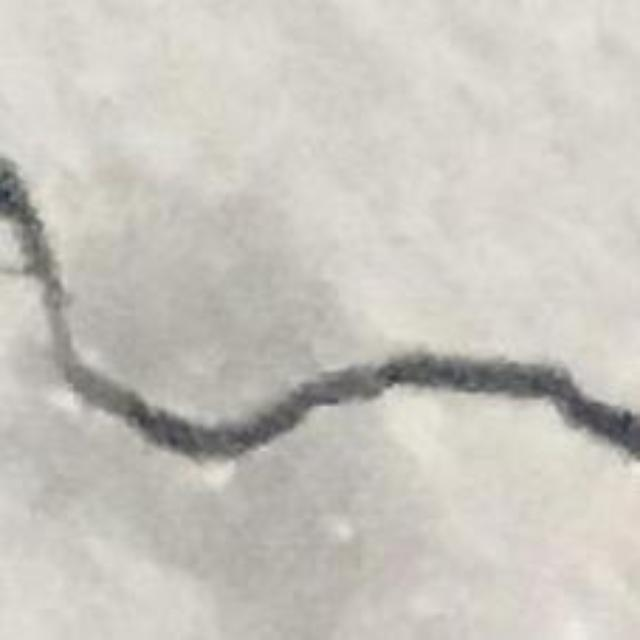crack: (0, 158, 639, 459)
